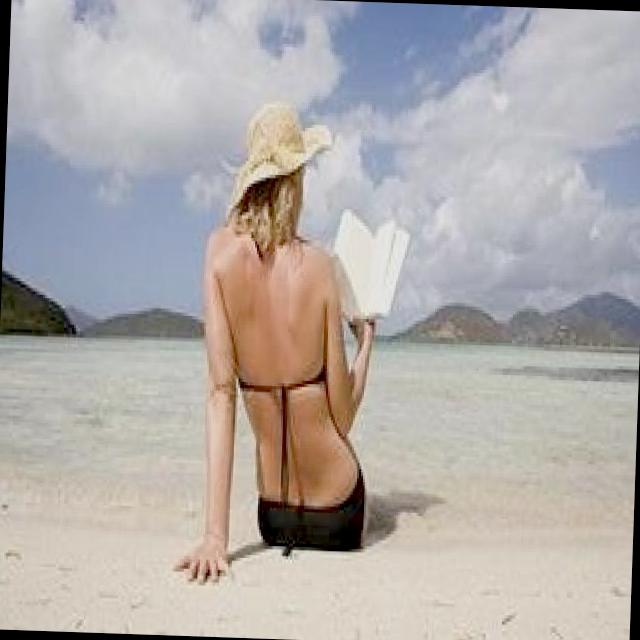no_vest: (185, 208, 382, 516)
